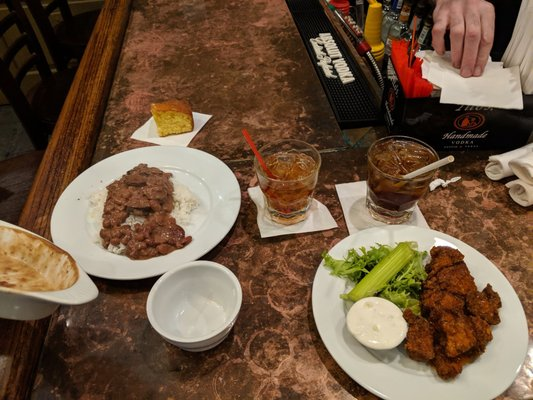curry: (341, 242, 426, 308)
sushi: (0, 219, 100, 320), (146, 260, 242, 353)
